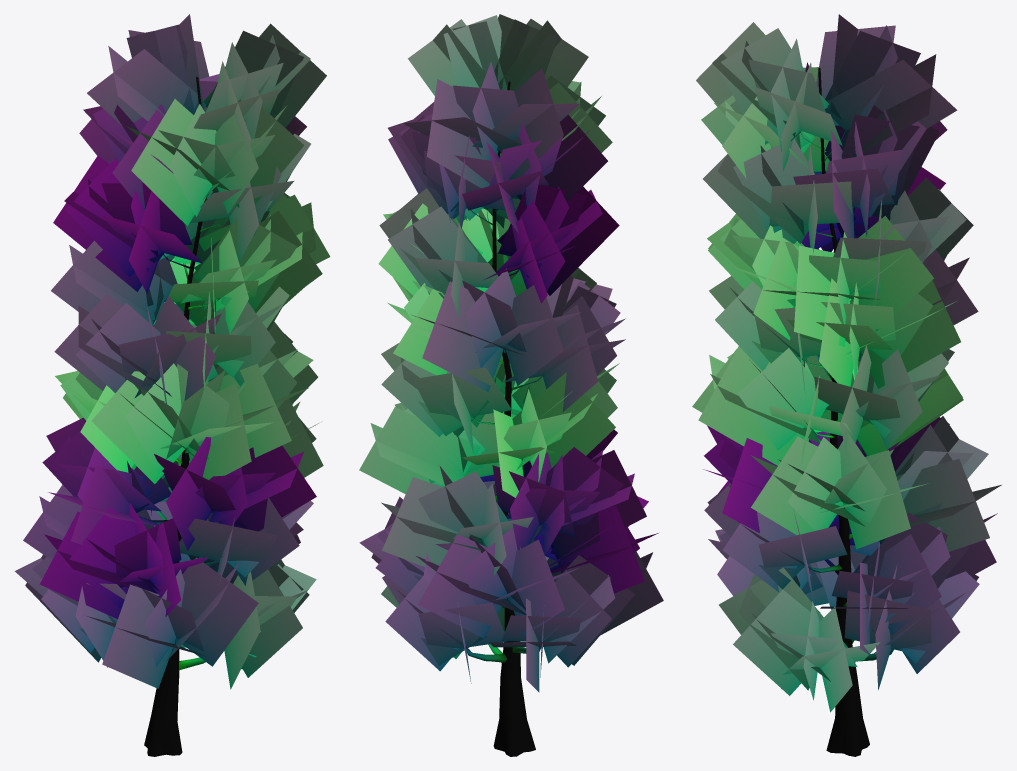
The model's file is Tree_5_3.fbx.
3 renders of one model, left to right at view 1: azimuth 30°, elevation 25°; view 2: azimuth 150°, elevation 25°; view 3: azimuth 270°, elevation 25°, orthographic. The views are drawn at different scales.
Parts seen in each view (by area): view 1: _3; view 2: _3; view 3: _3.
Boxes of the visible parts, x1,y1,x2,y2 form: _3: (14,14,330,756); _3: (359,14,663,756); _3: (692,14,1001,756).
Size of the model in its own units: 1015 by 2572 by 983.
